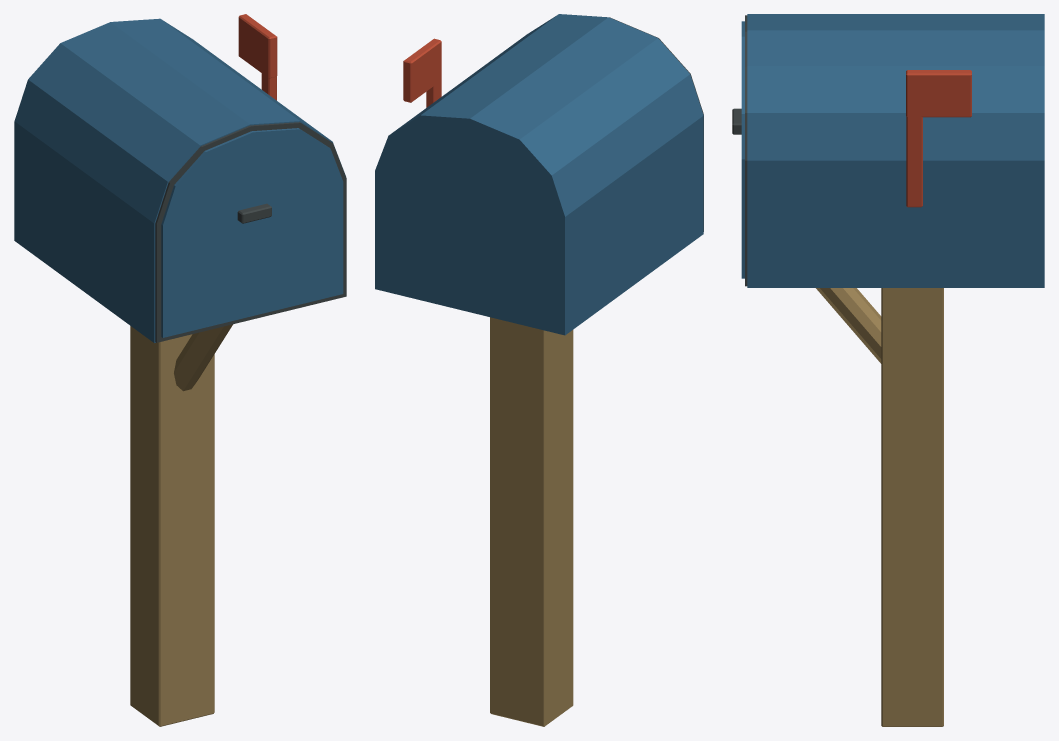
File: mailbox.glb
The picture shows the model from 3 angles, left to right: view 1: azimuth 30°, elevation 25°; view 2: azimuth 150°, elevation 25°; view 3: azimuth 270°, elevation 25°; orthographic projection. The views are drawn at different scales.
Parts seen in each view (by area): view 1: Wooden post; view 2: Wooden post; view 3: Wooden post.
Part boxes in pixels (bbox=[...]): Wooden post: bbox=[14, 14, 346, 726]; Wooden post: bbox=[375, 14, 703, 726]; Wooden post: bbox=[732, 14, 1044, 726].
Size of the model in its own units: 0.35 by 1.1 by 0.45.
